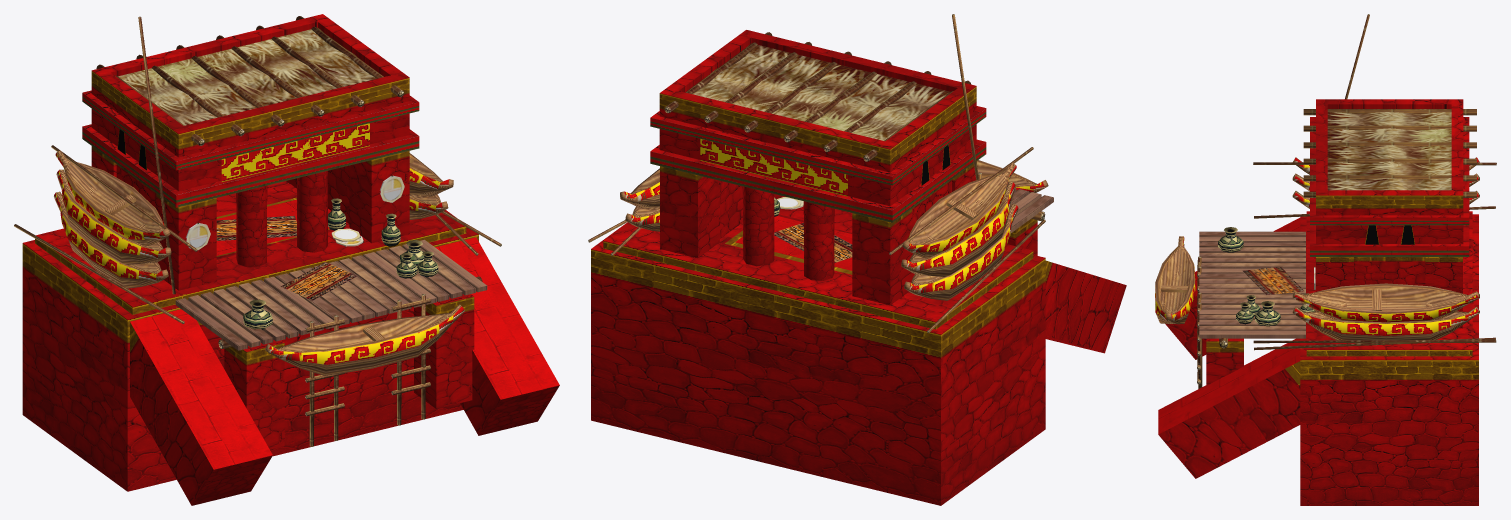
Rendered from zapo_dock.dae.
3 views of the same model, side by side, from view 1: azimuth 30°, elevation 25°; view 2: azimuth 150°, elevation 25°; view 3: azimuth 270°, elevation 25° (orthographic). The views are drawn at different scales.
Parts seen in each view (by area): view 1: Dock; view 2: Dock; view 3: Dock.
Boxes of the visible parts, box(x1,y1,x2,y2) form: Dock: box(14, 14, 559, 505); Dock: box(588, 14, 1126, 505); Dock: box(1155, 14, 1496, 505).
Size of the model in its own units: 20.99 by 20.82 by 24.73.
